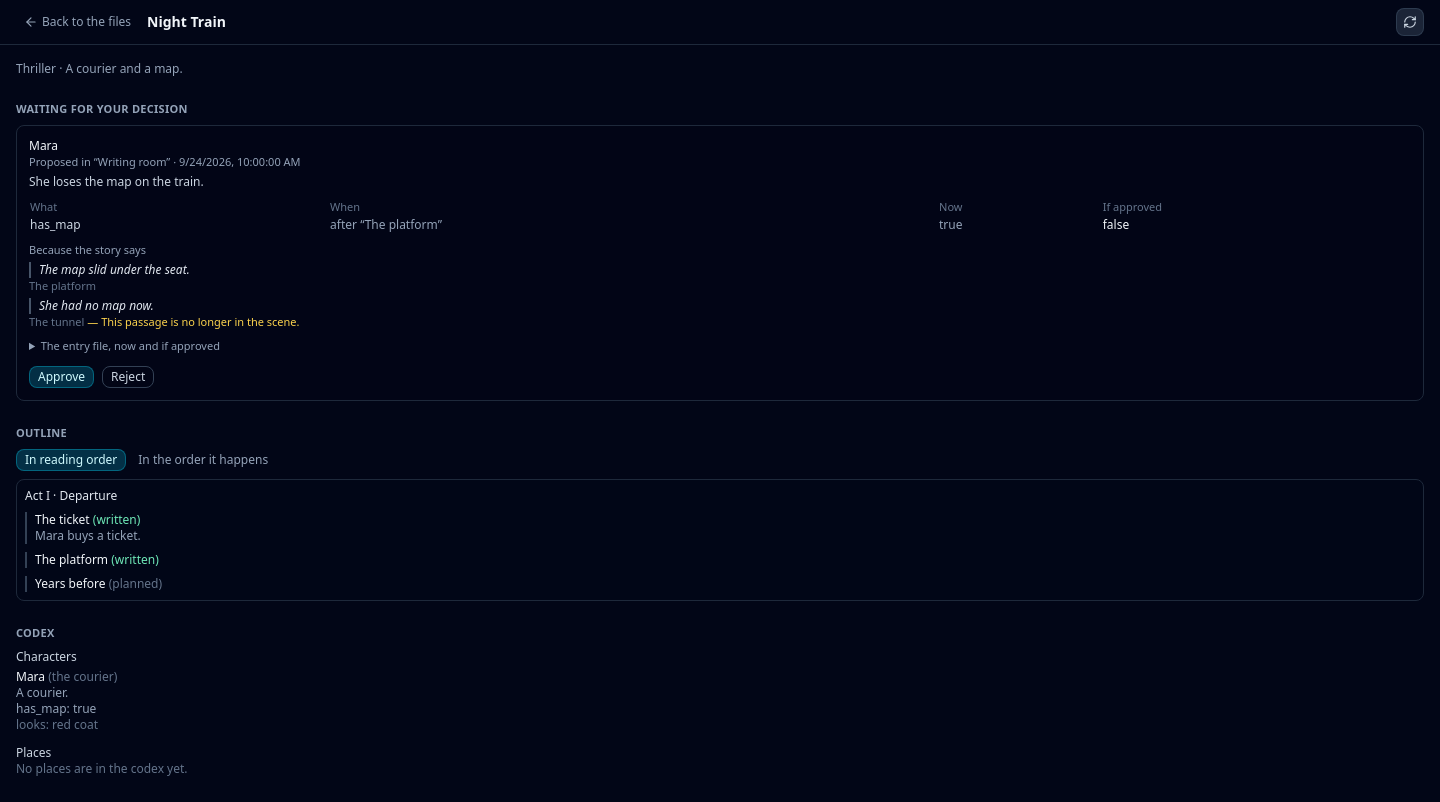
Test: StoryView, a story in Files (#1560) › approves the change as it was shown, says so, and reads the story again
Click the button with test id "story-approve": {"x": 62, "y": 377} [29, 366, 94, 388]
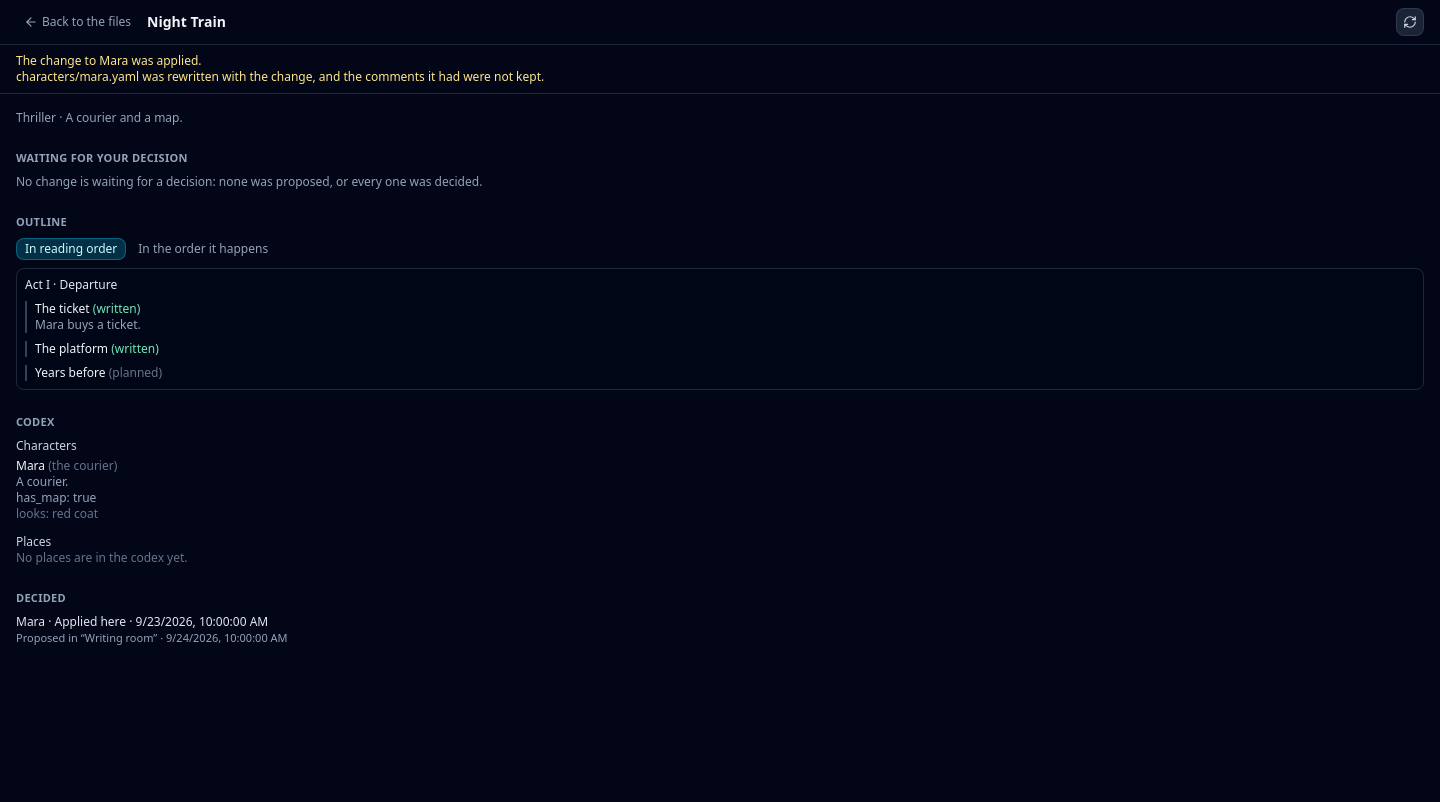
Expected: the message with test id "story-view-notice" shows "the comments it had were not kept", [16, 68, 544, 85]
Expected: the text "No change is waiting for a decision: none was proposed, or every one was decided." is shown, [16, 173, 482, 190]
